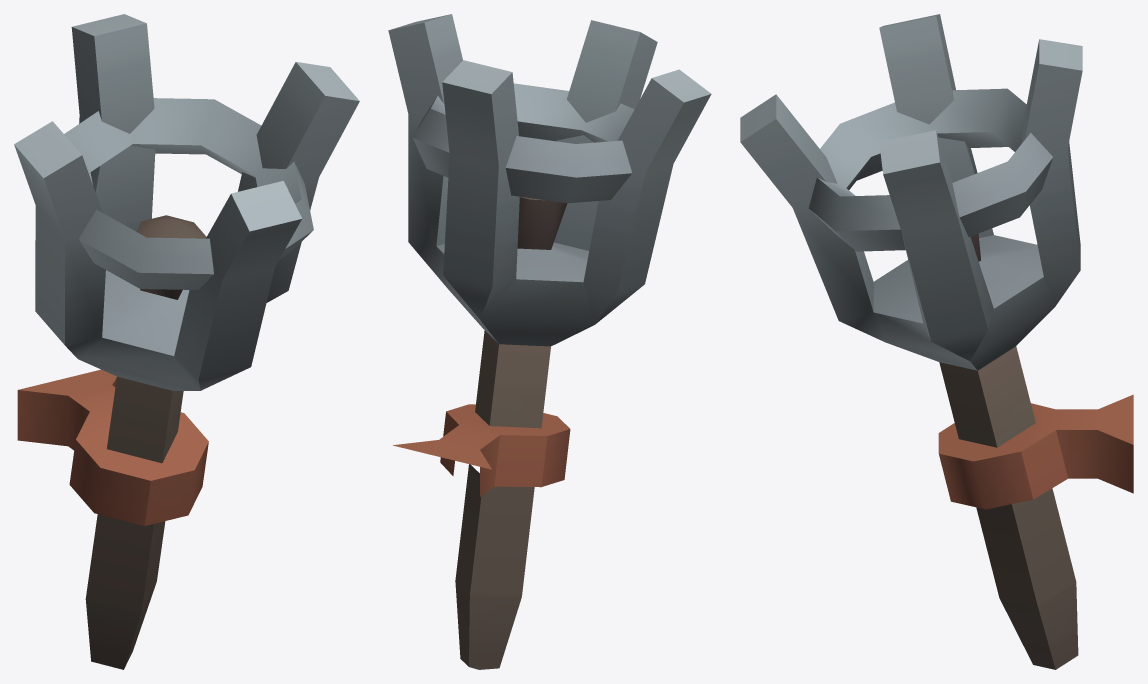
The model's file is torch_mounted.glb.
The picture shows the model from 3 angles, left to right: view 1: azimuth 30°, elevation 25°; view 2: azimuth 150°, elevation 25°; view 3: azimuth 270°, elevation 25°; orthographic projection. The views are drawn at different scales.
Visible parts, largest first — view 1: torch_mounted; view 2: torch_mounted; view 3: torch_mounted.
Part boxes in pixels (x1=…): torch_mounted: x1=14, y1=14, x2=359, y2=669; torch_mounted: x1=388, y1=14, x2=711, y2=669; torch_mounted: x1=740, y1=14, x2=1133, y2=669.
Bounding box in the file's own units: 0.5503 × 1.06 × 0.6159.
Materials: 1 (1 with a texture image).
